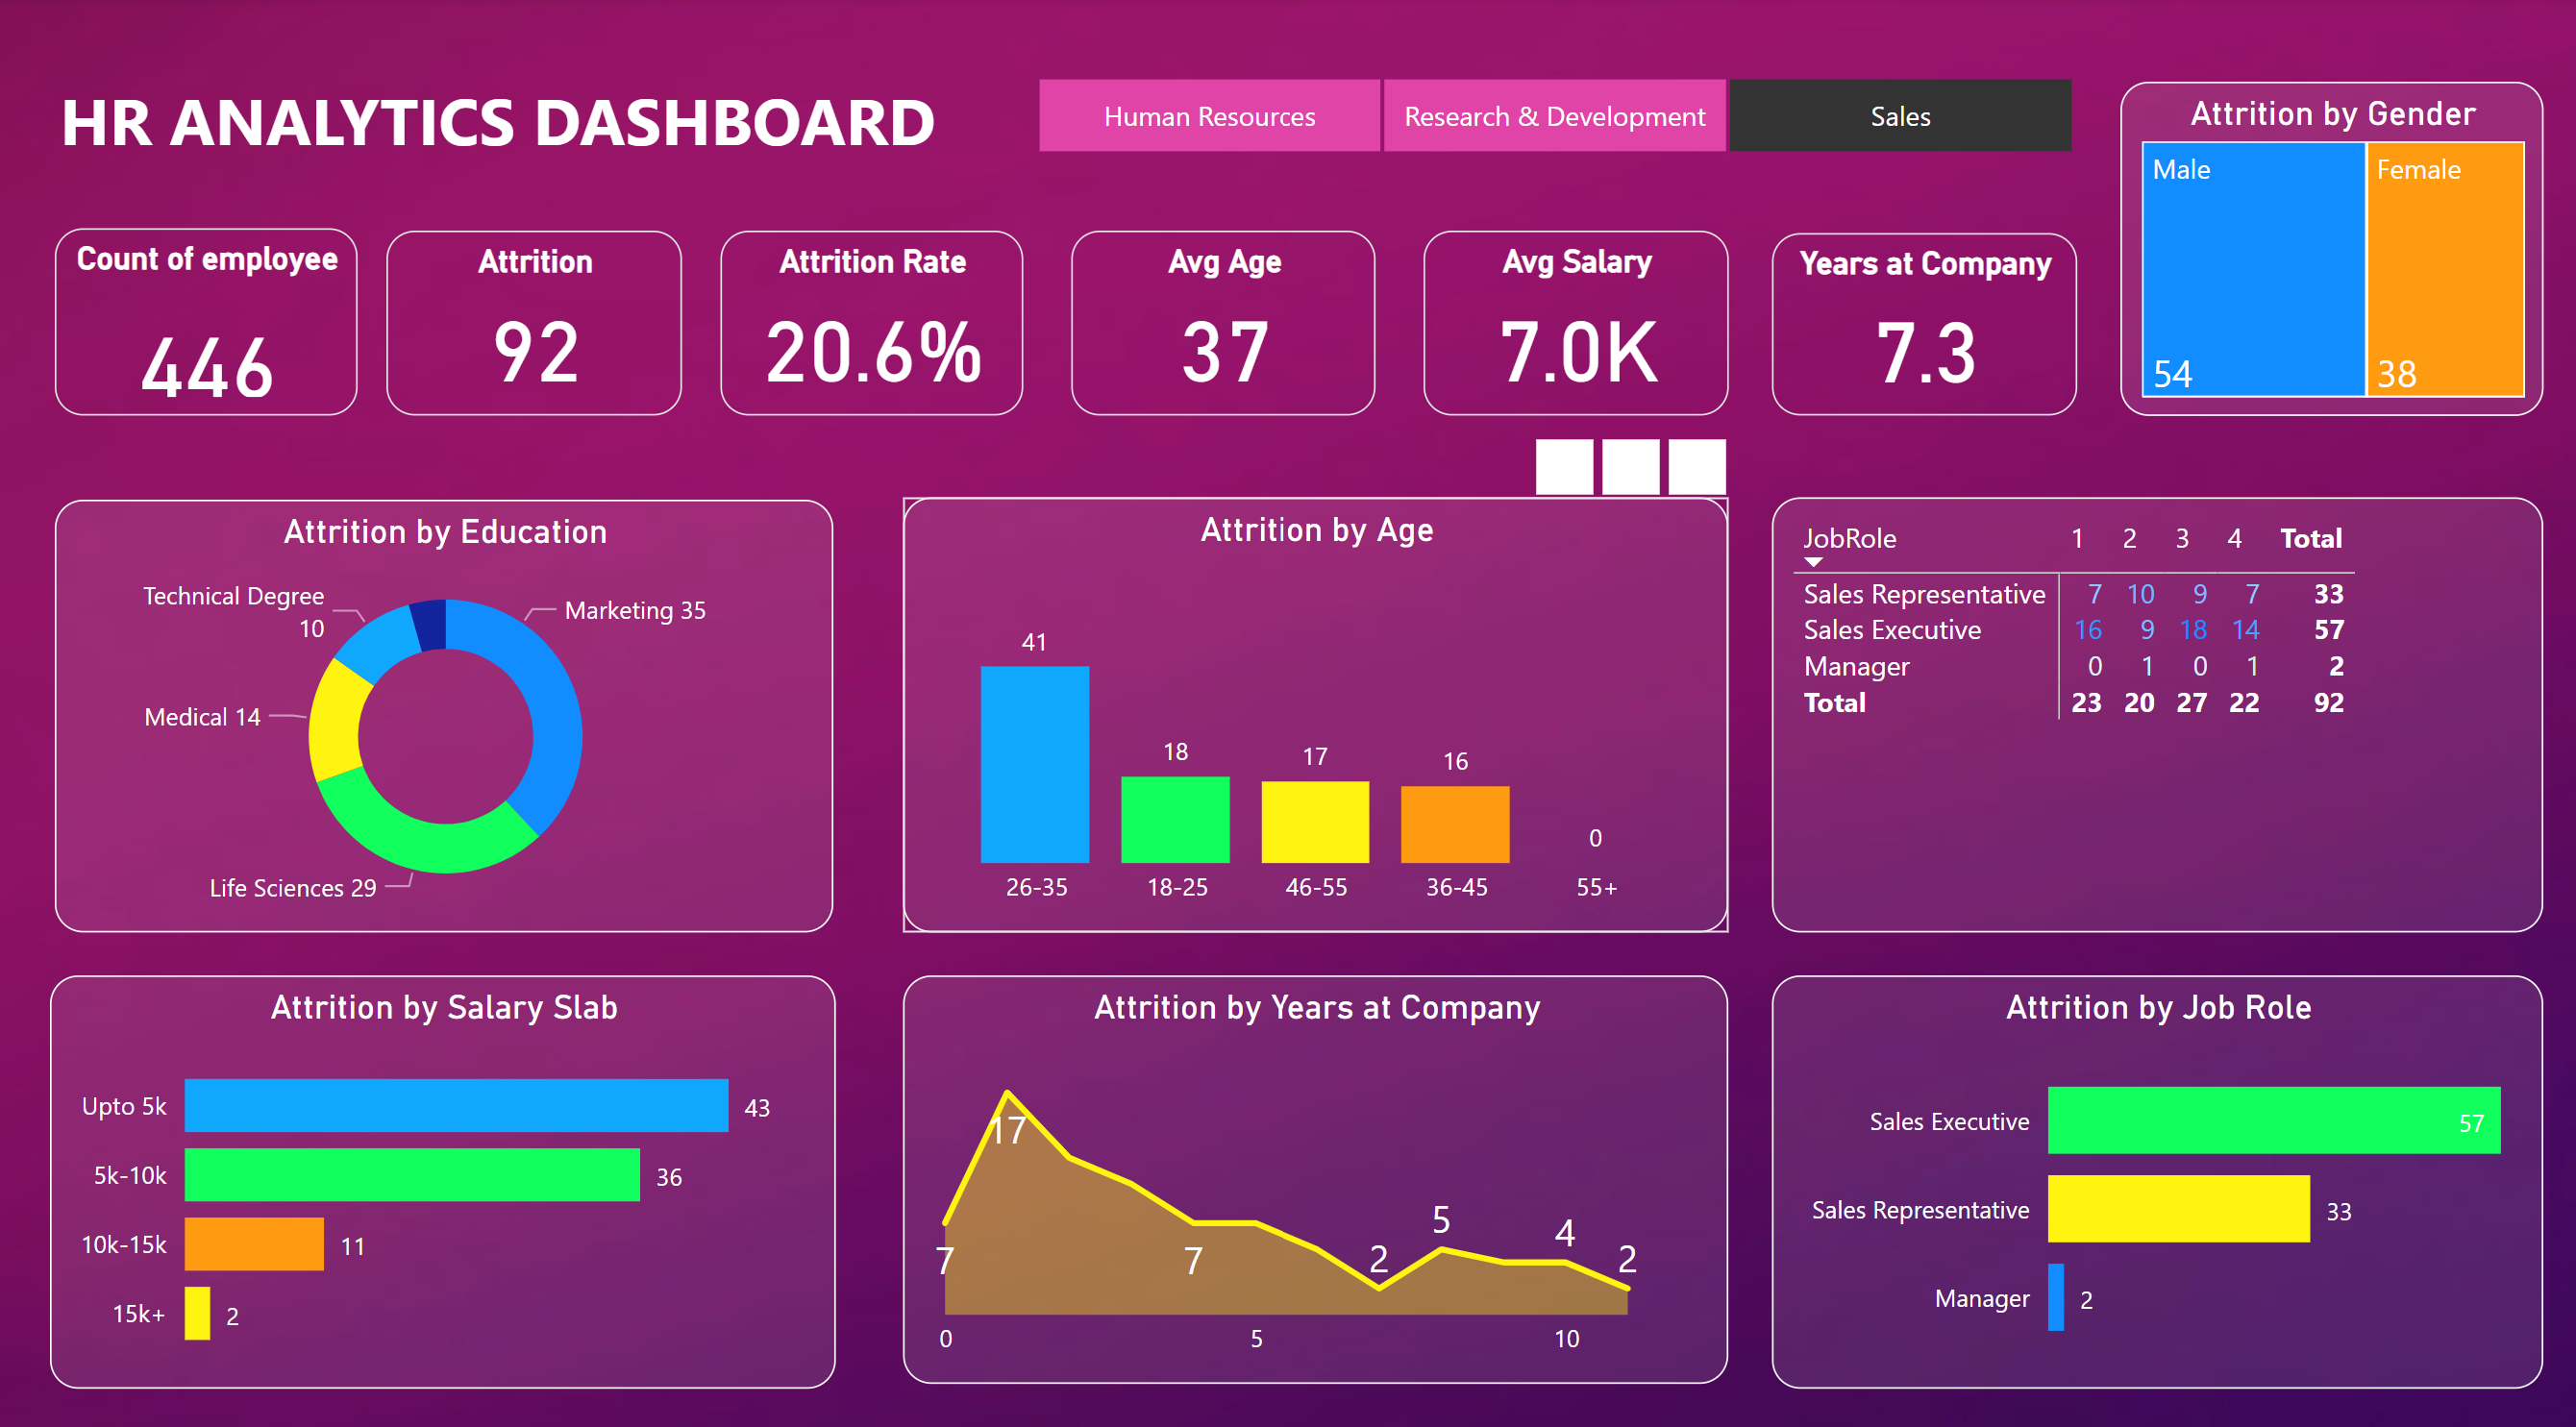

The dashboard page shown, as its layout file describes it:
{"tool":"powerbi","page":{"name":"Page 1","canvas":[1280,720],"ordinal":0},"visuals":[{"type":"card","title":"Count of employee  ","fields":{"Values":["CountNonNull(HR_Analytics.EmpID)"]},"box":[28.6,115.4,150,92.8],"z":0},{"type":"card","title":"Attrition","fields":{"Values":["Sum(HR_Analytics.AttritionCount)"]},"box":[192.8,116.6,146.4,91.6],"z":1000},{"type":"card","title":"Attrition Rate","fields":{"Values":["HR_Analytics.AttritionRate"]},"box":[358.2,116.6,150,91.6],"z":2000},{"type":"card","title":"Avg Age","fields":{"Values":["Avg(HR_Analytics.Age)"]},"box":[532,116.6,151.1,91.6],"z":3000},{"type":"card","title":"Avg Salary","fields":{"Values":["Avg(HR_Analytics.MonthlyIncome)"]},"box":[706.9,116.6,151.1,91.6],"z":4000},{"type":"card","title":"Years at Company","fields":{"Values":["Avg(HR_Analytics.YearsAtCompany)"]},"box":[879.5,117.8,151.1,90.4],"z":5000},{"type":"donutChart","title":"Attrition by Education","fields":{"Y":["Sum(HR_Analytics.AttritionCount)"],"Category":["HR_Analytics.EducationField"]},"box":[28.6,249.9,385.6,214.2],"z":6000},{"type":"columnChart","title":"Attrition by Age","fields":{"Category":["HR_Analytics.AgeGroup"],"Y":["Sum(HR_Analytics.AttritionCount)"]},"box":[448.7,248.7,409.4,215.4],"z":7000},{"type":"pivotTable","fields":{"Rows":["HR_Analytics.JobRole"],"Columns":["HR_Analytics.JobSatisfaction"],"Values":["Sum(HR_Analytics.AttritionCount)"]},"box":[879.5,248.7,382,215.4],"z":8000},{"type":"barChart","title":"Attrition by Salary Slab","fields":{"Category":["HR_Analytics.SalarySlab"],"Y":["Sum(HR_Analytics.AttritionCount)"]},"box":[26.2,485.6,389.2,204.7],"z":9000},{"type":"areaChart","title":"Attrition by Years at Company","fields":{"Category":["HR_Analytics.YearsAtCompany"],"Y":["Sum(HR_Analytics.AttritionCount)"]},"box":[448.7,485.6,409.4,202.3],"z":10000},{"type":"barChart","title":"Attrition by Job Role","fields":{"Category":["HR_Analytics.JobRole"],"Y":["Sum(HR_Analytics.AttritionCount)"]},"box":[879.5,485.6,382,204.7],"z":11000},{"type":"treemap","title":"Attrition by Gender","fields":{"Group":["HR_Analytics.Gender"],"Values":["Sum(HR_Analytics.AttritionCount)"]},"box":[1052,42.8,209.5,165.4],"z":12000},{"type":"slicer","fields":{"Values":["HR_Analytics.Department"]},"box":[490.3,34.5,561.7,50],"z":13000},{"type":"textbox","box":[26.2,34.5,464.1,59.5],"z":14000}]}

Visuals, with their boxes in screenshot pixels (x1, y1, x2, y2), scaled from the page's 1280x720 canvas onto the 2576x1427 screenshot:
"Count of employee  " card: bbox(58, 229, 359, 412)
"Attrition" card: bbox(388, 231, 682, 412)
"Attrition Rate" card: bbox(721, 231, 1023, 412)
"Avg Age" card: bbox(1071, 231, 1375, 412)
"Avg Salary" card: bbox(1423, 231, 1726, 412)
"Years at Company" card: bbox(1770, 234, 2074, 412)
"Attrition by Education" donutChart: bbox(58, 495, 833, 920)
"Attrition by Age" columnChart: bbox(903, 493, 1727, 920)
pivotTable - HR_Analytics.JobRole x HR_Analytics.JobSatisfaction: bbox(1770, 493, 2539, 920)
"Attrition by Salary Slab" barChart: bbox(53, 963, 836, 1368)
"Attrition by Years at Company" areaChart: bbox(903, 963, 1727, 1364)
"Attrition by Job Role" barChart: bbox(1770, 963, 2539, 1368)
"Attrition by Gender" treemap: bbox(2118, 85, 2539, 412)
slicer - HR_Analytics.Department: bbox(987, 68, 2118, 167)
textbox: bbox(53, 68, 987, 186)
